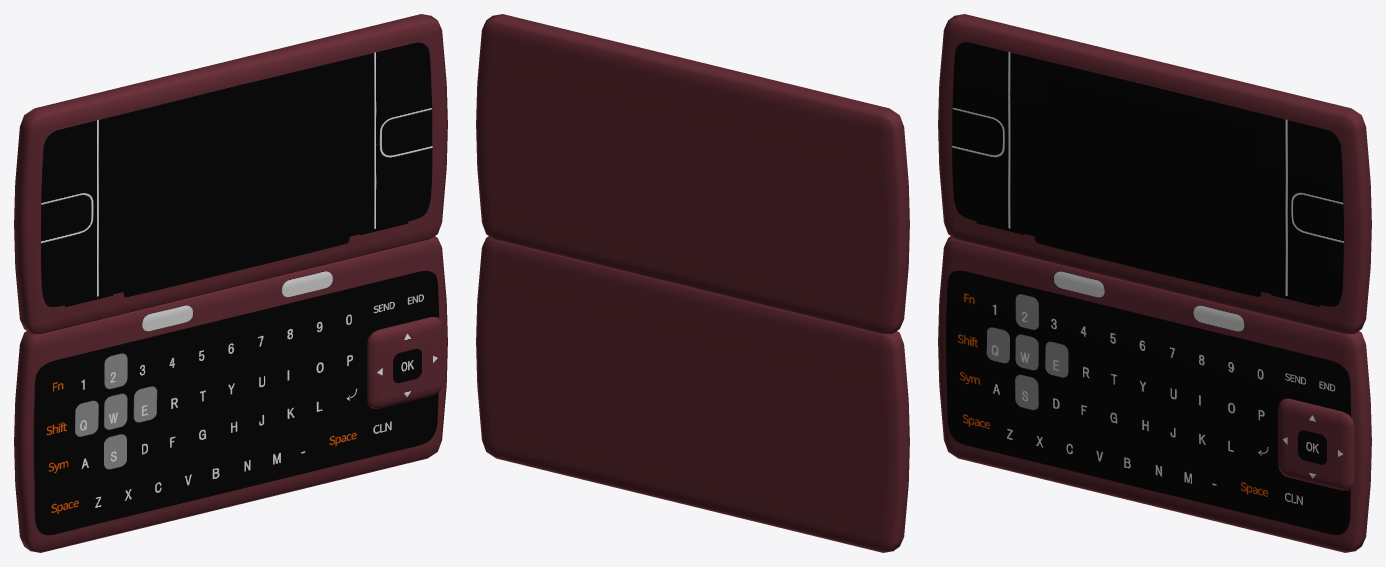
File: phone_open.glb
The picture shows the model from 3 angles, left to right: view 1: azimuth 30°, elevation 25°; view 2: azimuth 150°, elevation 25°; view 3: azimuth 330°, elevation 25°; orthographic projection.
Visible parts, largest first — view 1: polySurface6, polySurface5, pPlane2, pCube6; view 2: polySurface5, polySurface6; view 3: polySurface6, polySurface5, pPlane2, pCube6.
Part boxes in pixels (box(x1,y1,x2,y2)): polySurface6: box(14, 236, 447, 552); polySurface5: box(14, 14, 447, 334); pPlane2: box(133, 74, 346, 290); pCube6: box(367, 317, 442, 408); polySurface5: box(476, 14, 909, 334); polySurface6: box(476, 236, 909, 552); polySurface6: box(938, 236, 1371, 552); polySurface5: box(938, 14, 1371, 334); pPlane2: box(1044, 75, 1257, 291); pCube6: box(1278, 398, 1354, 490).
Bounding box in the file's own units: 1.43 × 1.4 × 0.0917.
Materials: 2 (1 with a texture image).
